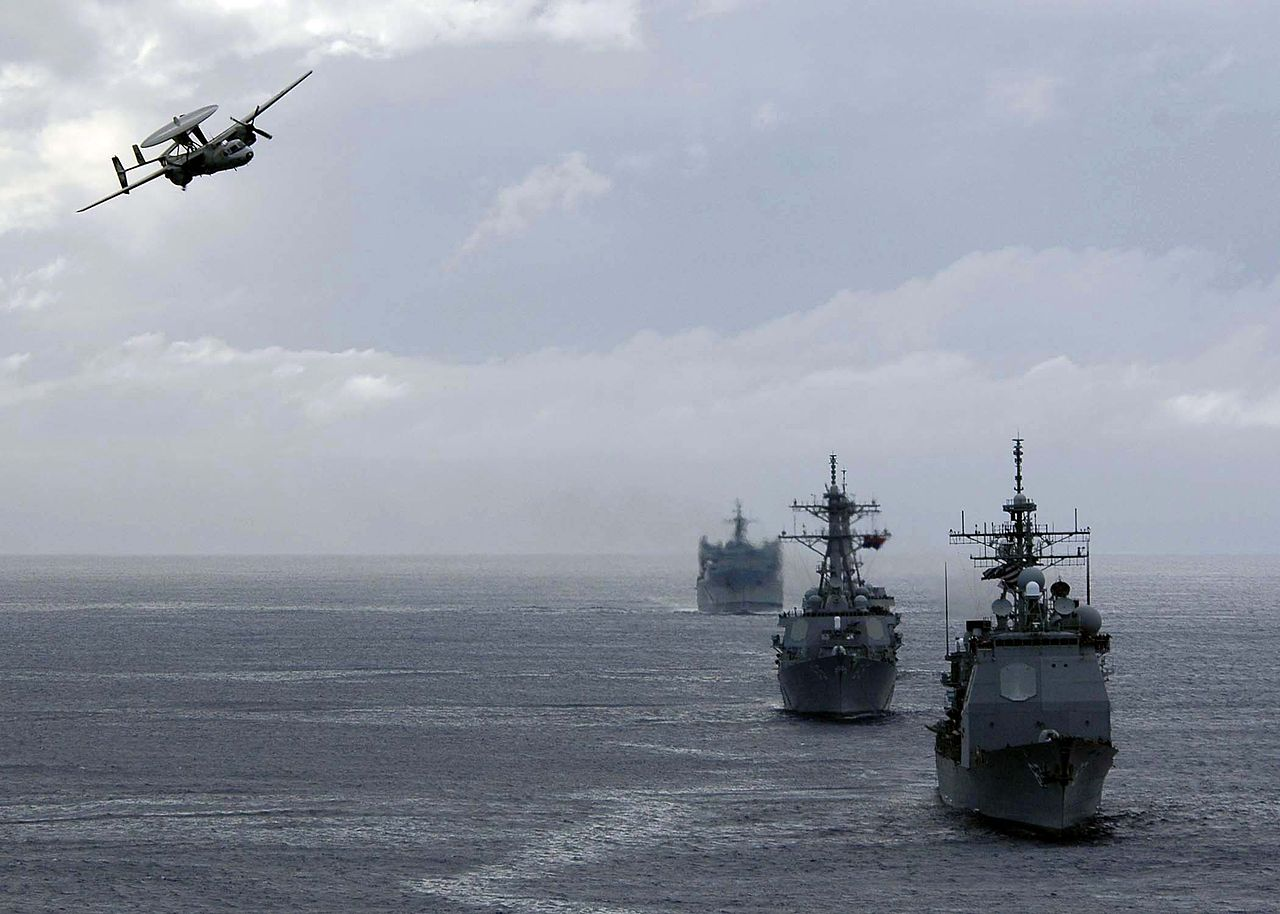E2: (73, 69, 314, 213)
